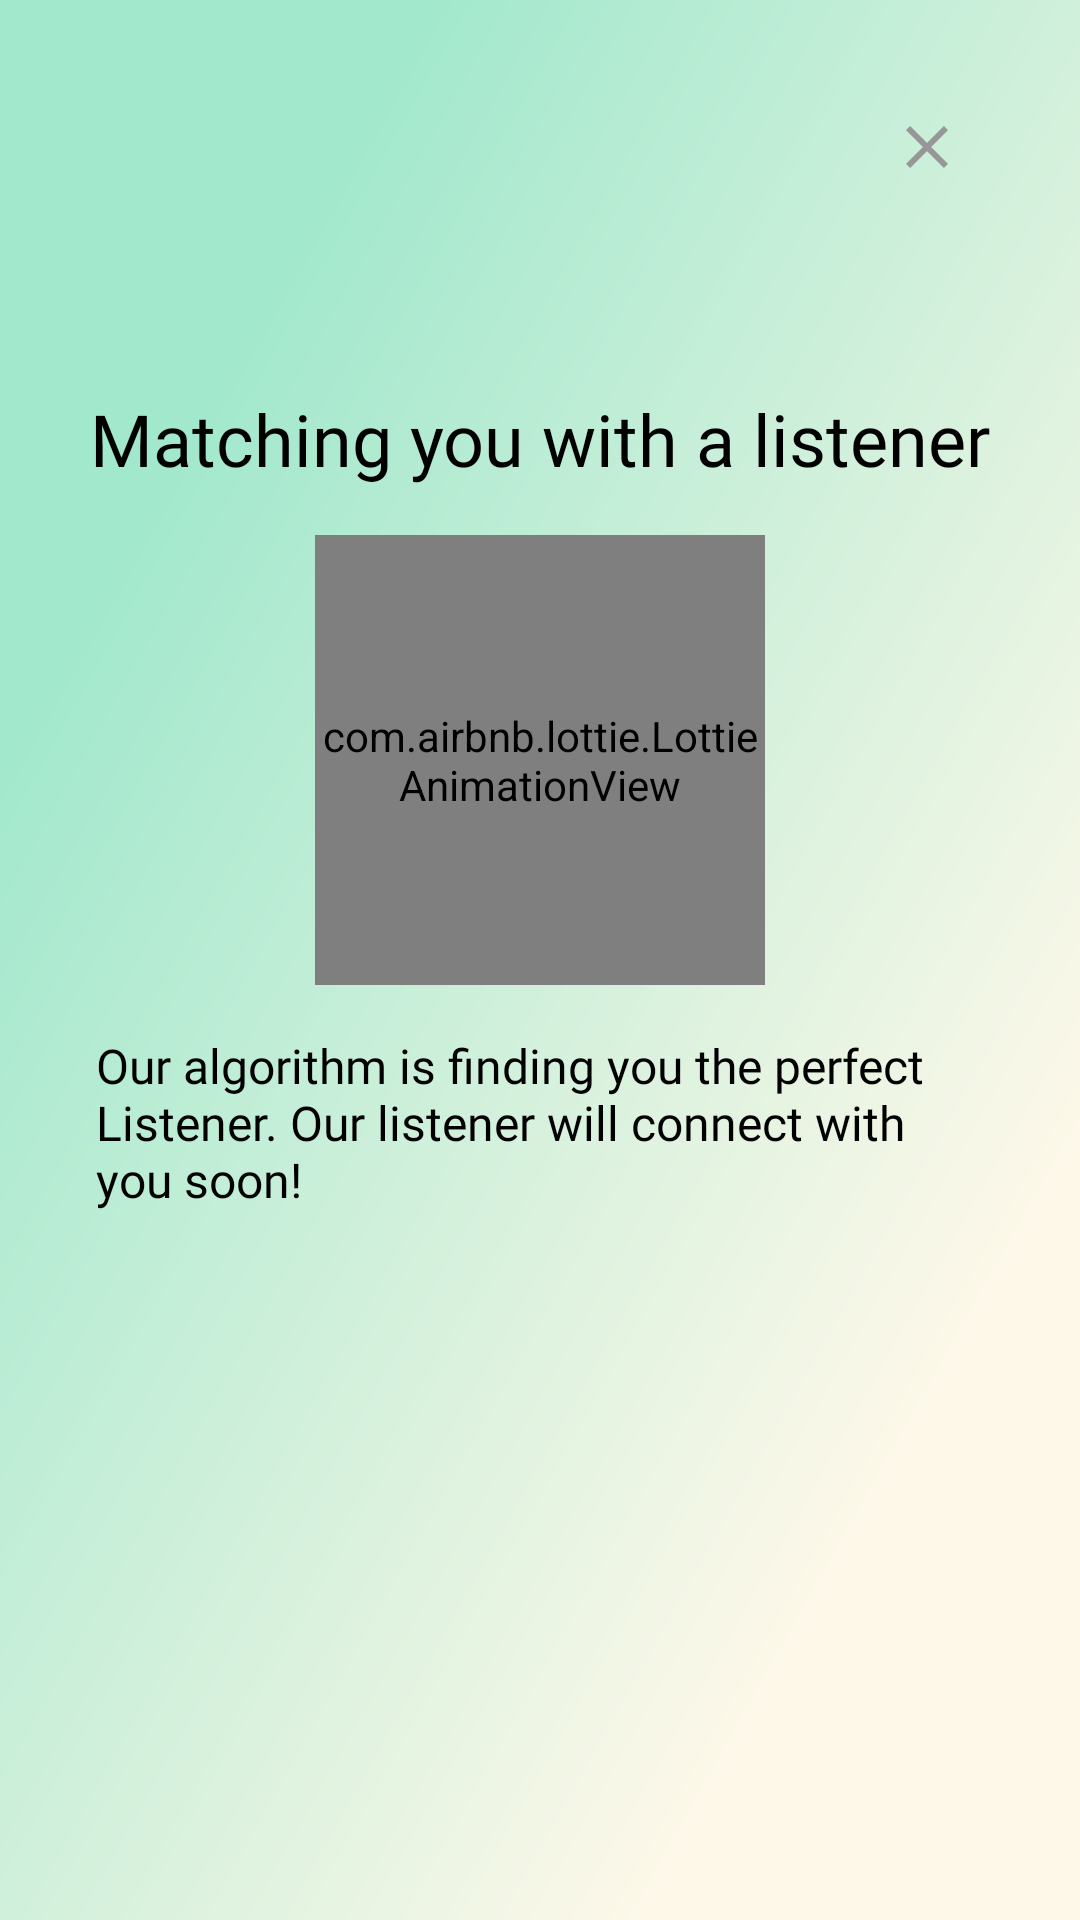

Where to tap for icons on this 1080w x 1920h app screen, as [x,y]:
wrong: [927,147]
